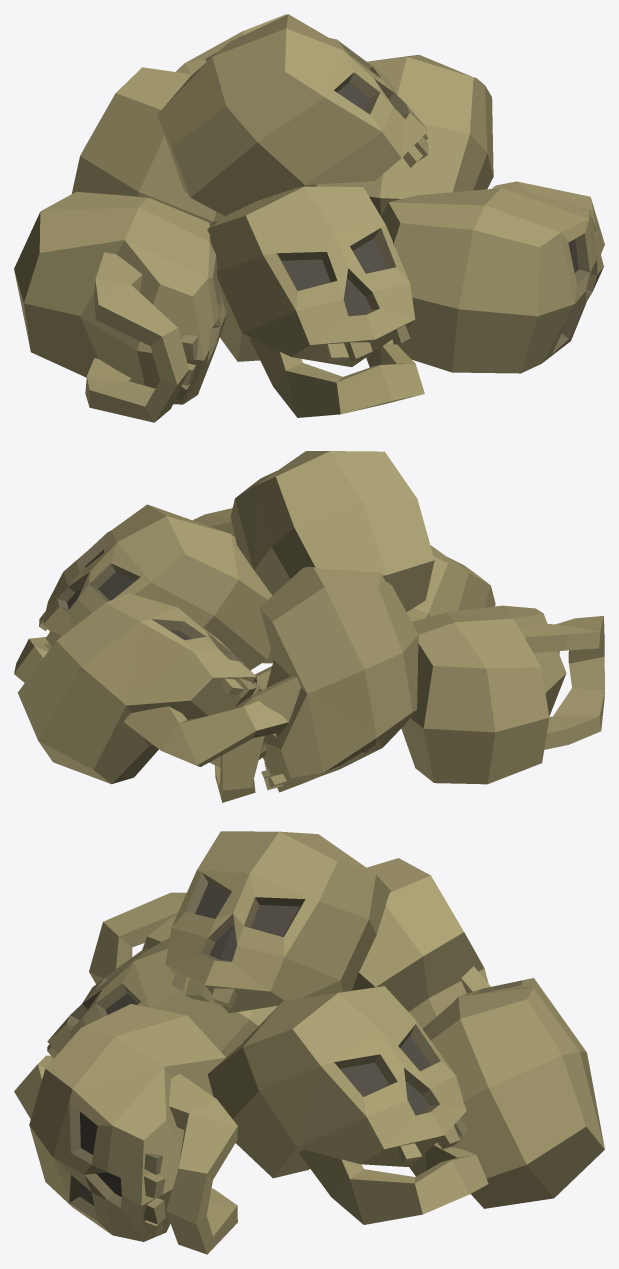
Rendered from Skull_5.fbx.
3 renders of one model, top to bottom at view 1: azimuth 30°, elevation 25°; view 2: azimuth 150°, elevation 25°; view 3: azimuth 270°, elevation 25°, orthographic. The views are drawn at different scales.
Visible parts, largest first — view 1: Scull_5; view 2: Scull_5; view 3: Scull_5.
Boxes of the visible parts, x1,y1,x2,y2 form: Scull_5: (14,14,604,422); Scull_5: (14,451,604,802); Scull_5: (14,831,604,1254).
Size of the model in its own units: 66.97 by 37.2 by 64.25.
